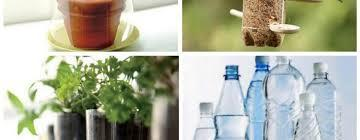Plastic bottle: (184, 57, 350, 137)
